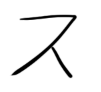su: (7, 12, 79, 79)
